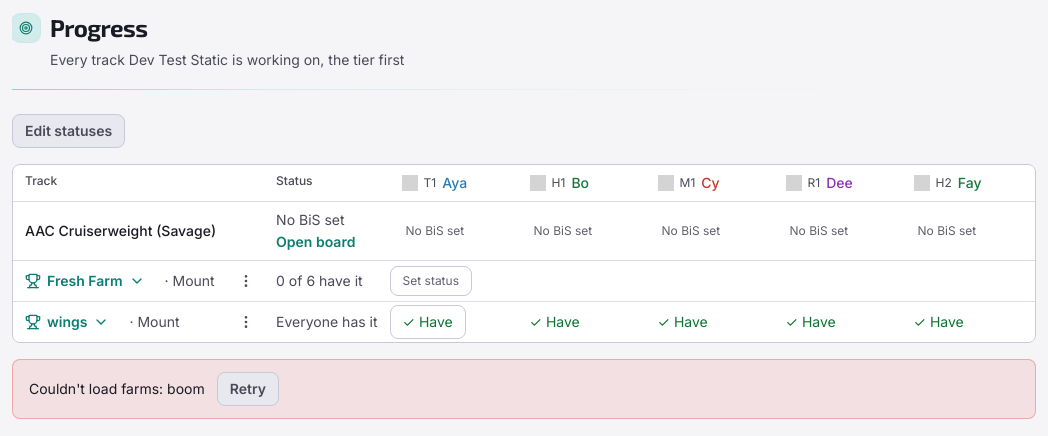
Scenario: ProgressPage matrix: loading and error (TF5 ruling 3) › keeps the matrix, stale, behind the error line when a later active fetch fails, and through the retry
Expected: the message with test id "progress-error" shows "boom", left=29, top=380, right=205, bottom=397
Click the button "Retry" at (248, 389), box left=217, top=372, right=279, bottom=406
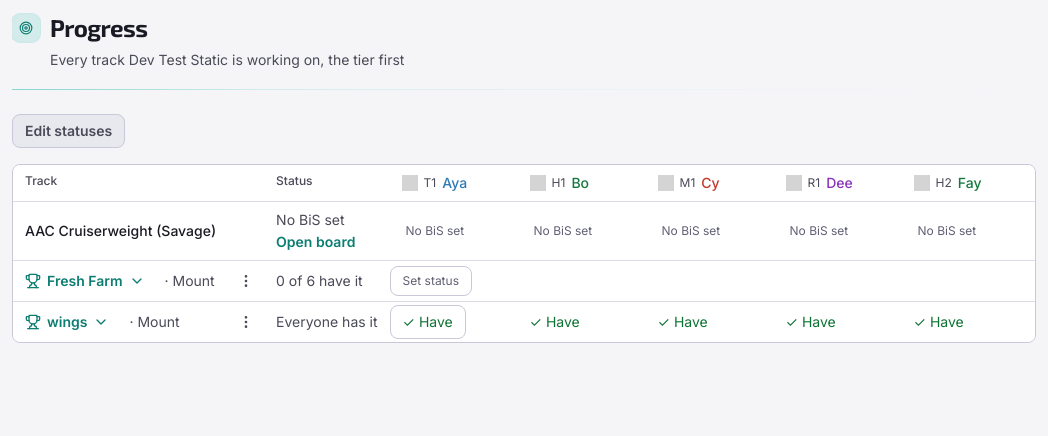
Expected: the message with test id "progress-error" is gone
